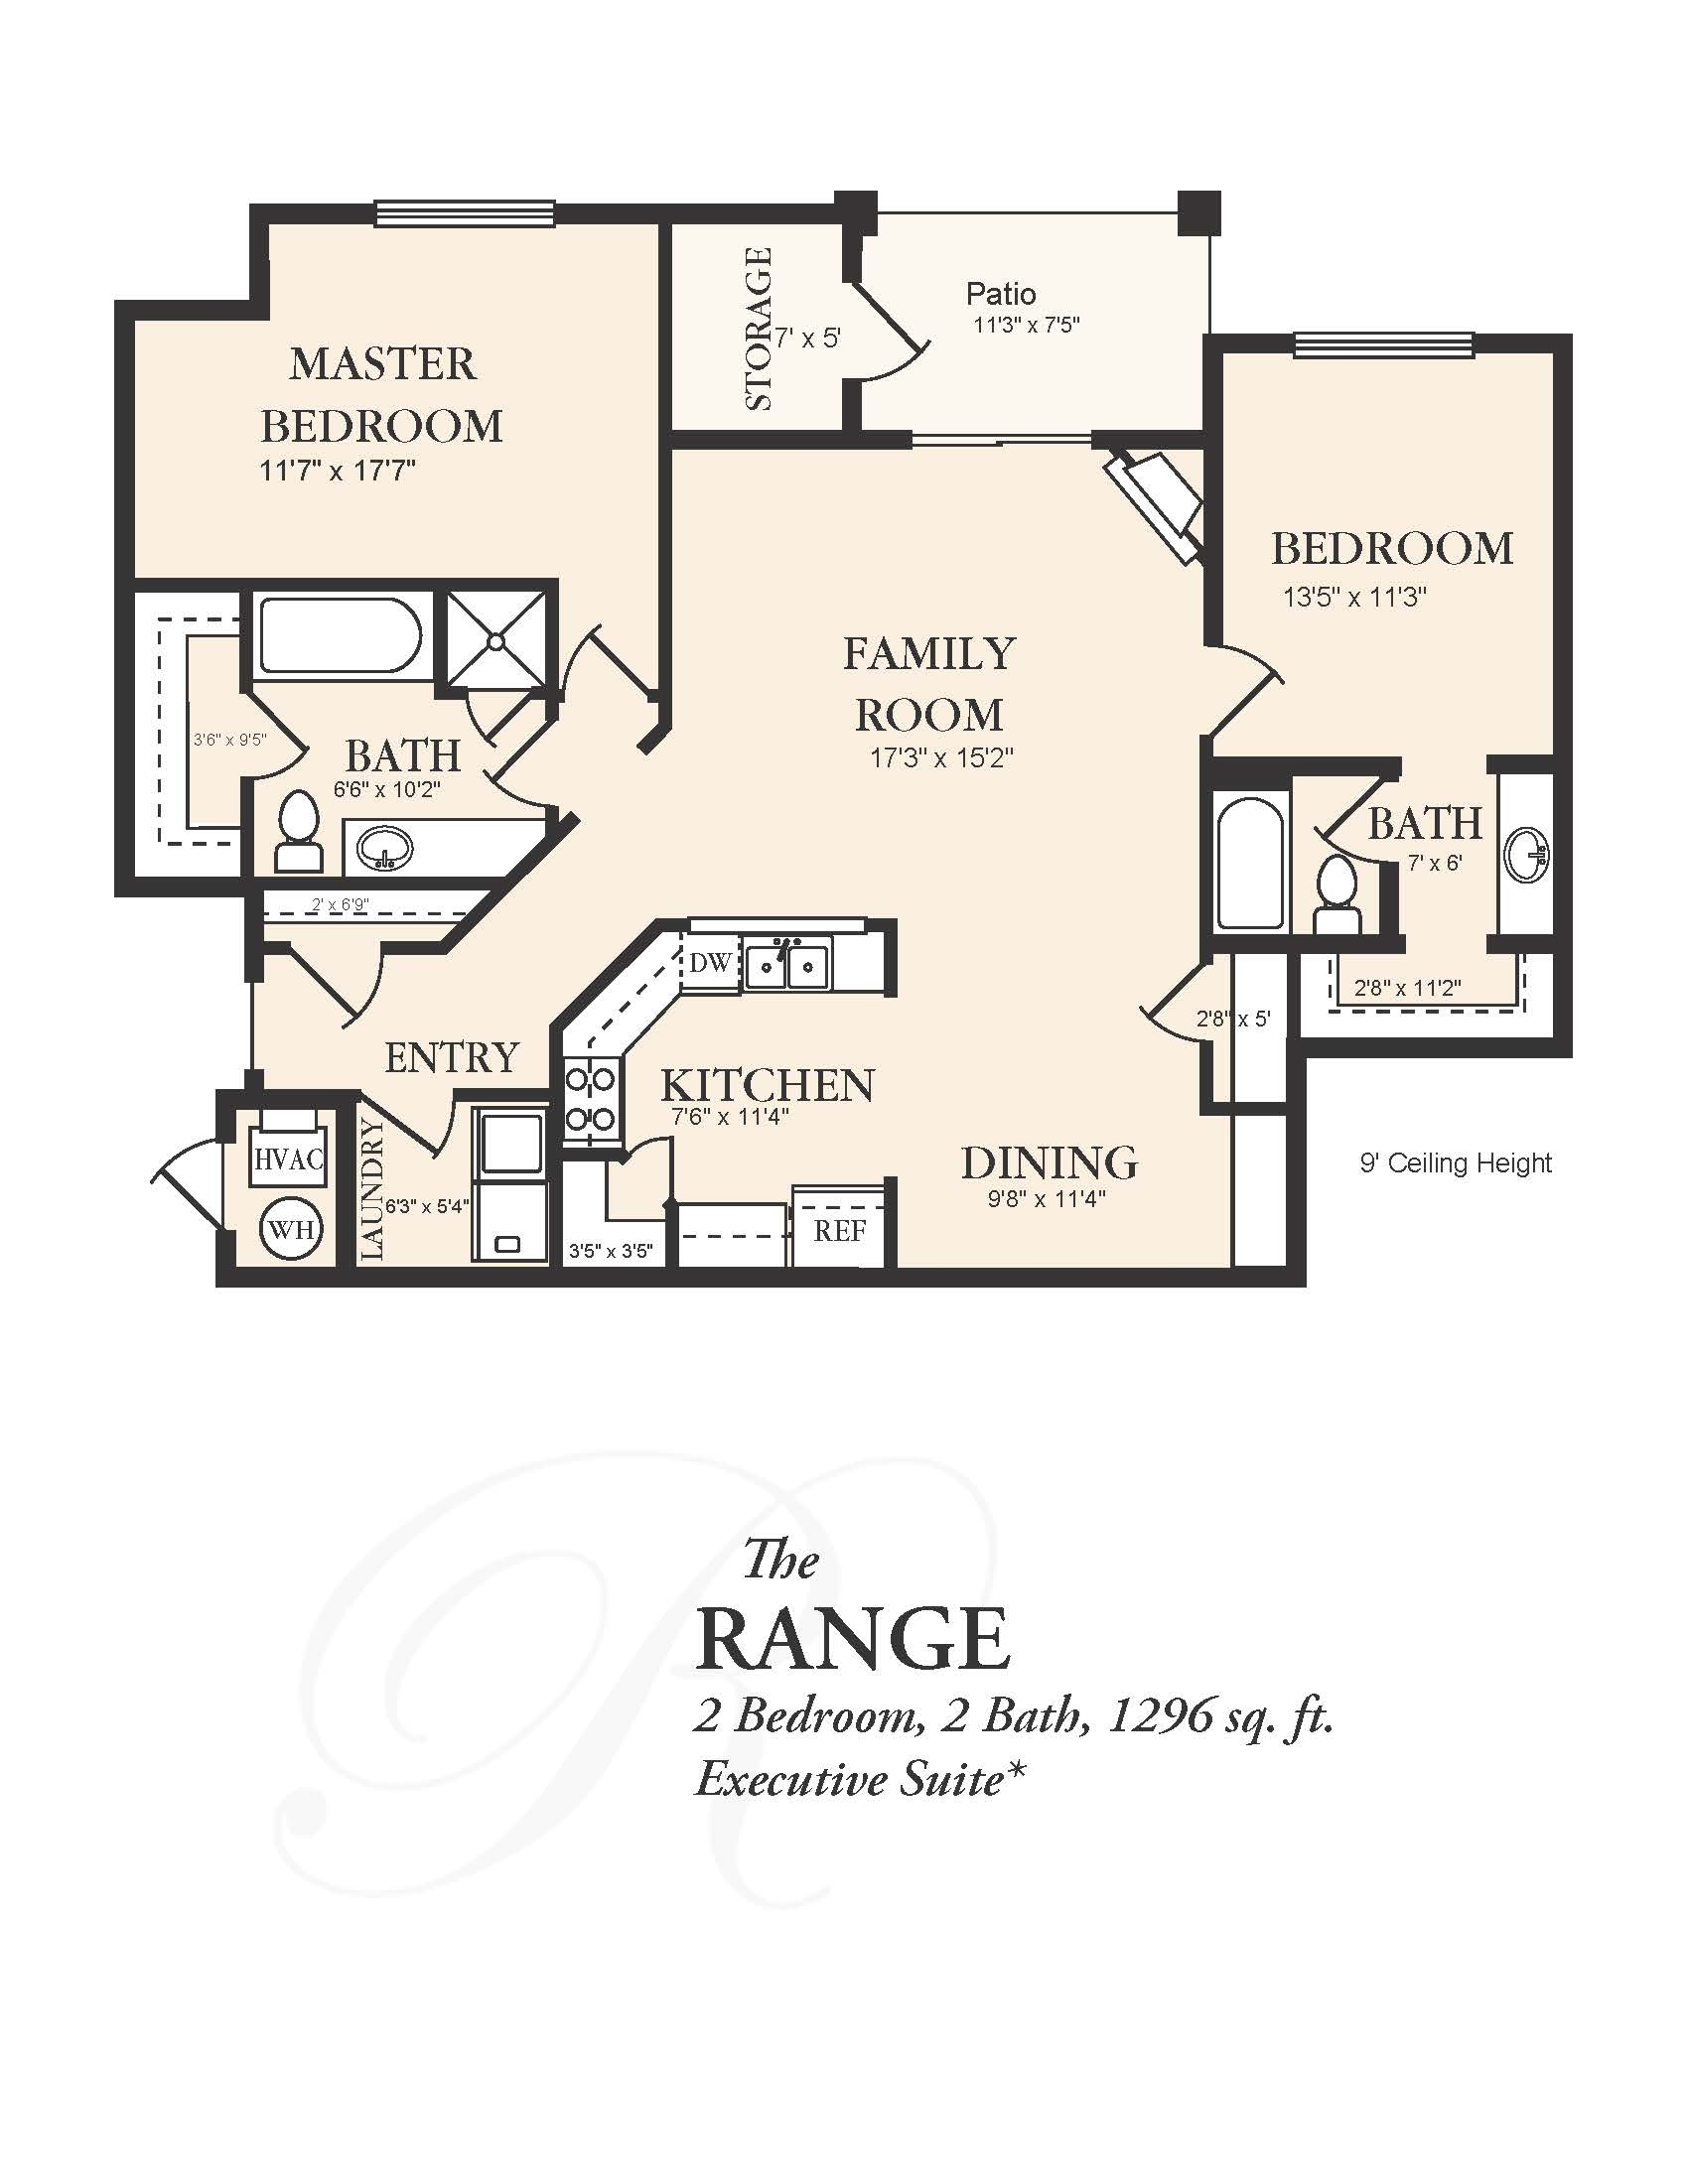door: (287, 957, 402, 1019), (864, 282, 922, 385), (1216, 645, 1273, 737), (160, 1136, 213, 1234), (367, 1103, 459, 1156), (1321, 776, 1378, 858), (564, 631, 642, 690), (489, 727, 541, 812), (1147, 959, 1197, 1044), (259, 697, 309, 780), (628, 1124, 683, 1197), (452, 700, 528, 741)
